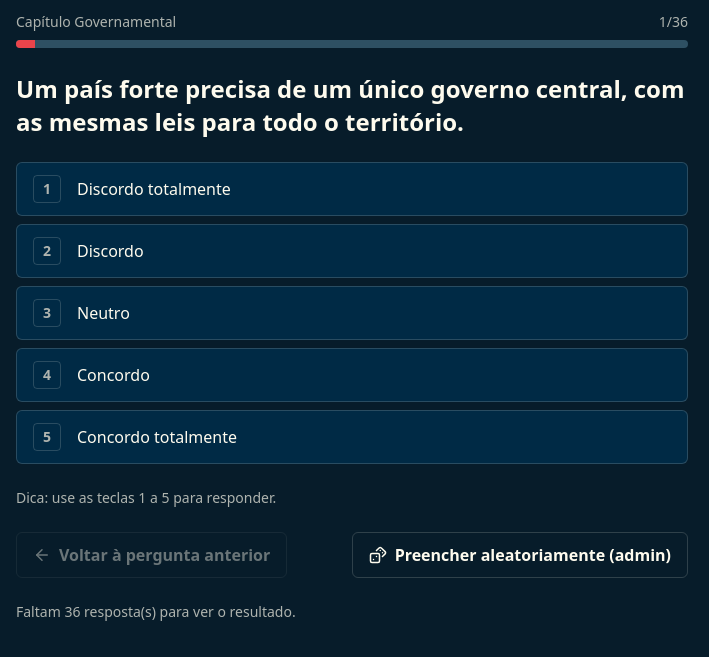
it: Quiz › preenchimento aleatório só existe para admin
Click the button "Preencher aleatoriamente (admin)" at (520, 555), box [352,532,688,578]
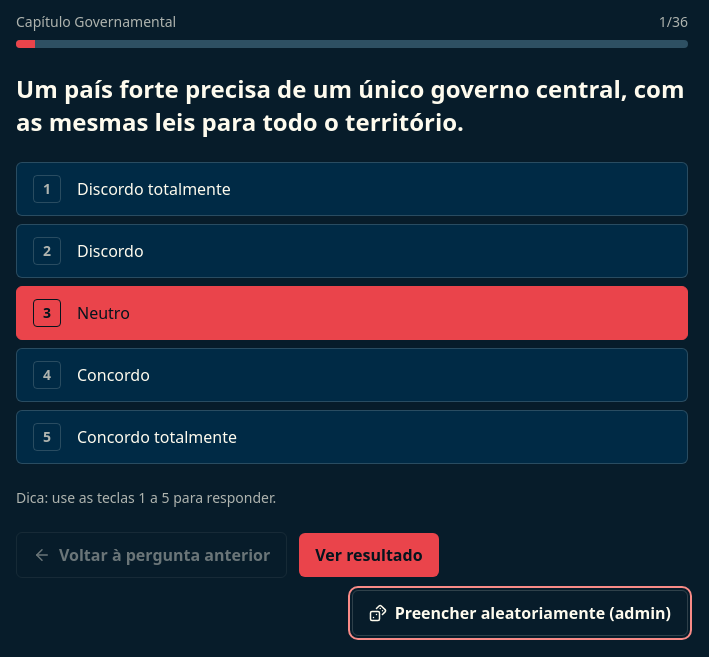
Check: the button "Ver resultado" is shown, box [299,533,439,577]
